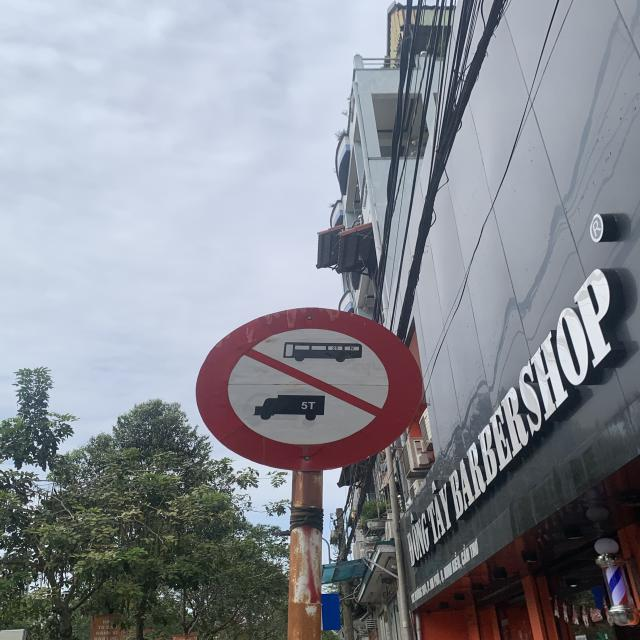Cam_XeTai_XeKhach: (195, 306, 427, 470)
